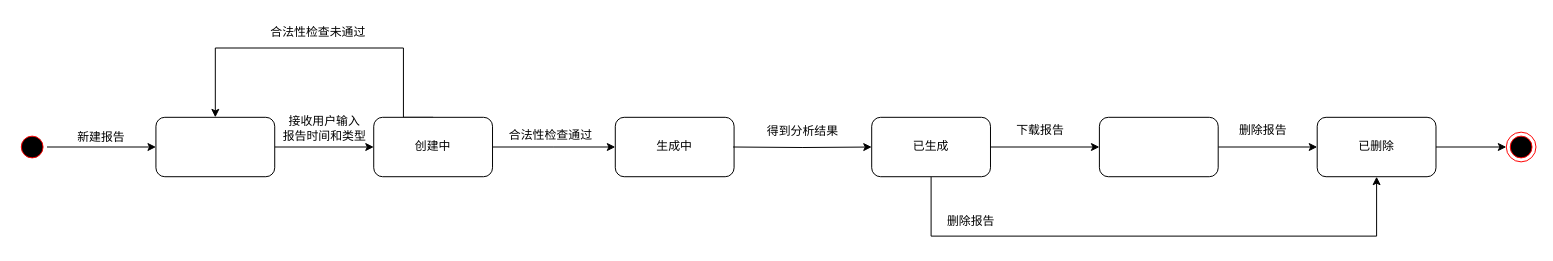
The diagram is 1553 pixels wide and 261 high, and some of its shapes have lost their labels. The shapes that lost their labels are listed below. From the top down, each one's centre as x and y in pixels, then its label:
At pixel 215 146: "未初始化".
At pixel 1158 146: "已下载".
